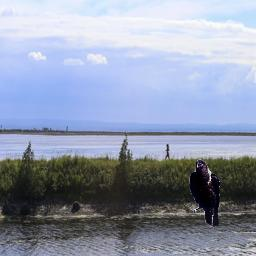Crow: (189, 159, 220, 228)
